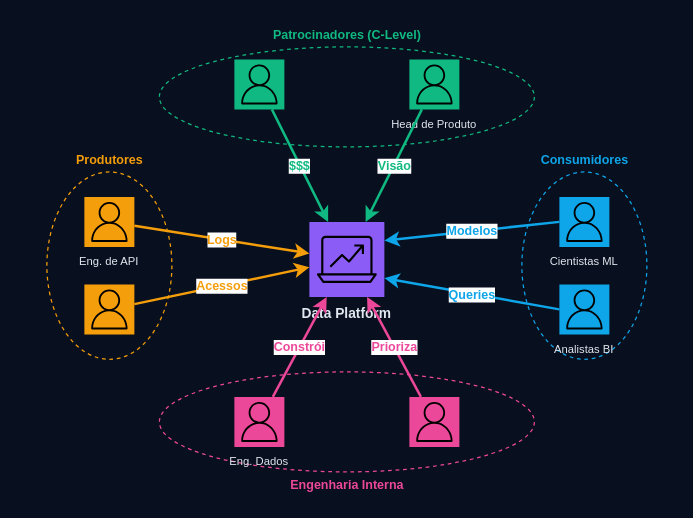
The diagram is 693 pixels wide and 518 high, and some of its shapes have lost their labels. The box of each missing label's shape, as (x1, y1, x2, y2) in pixels:
CFO / Finanças: (234, 59, 284, 109)
Data PMO: (409, 396, 459, 446)
SecOps: (84, 284, 134, 334)
